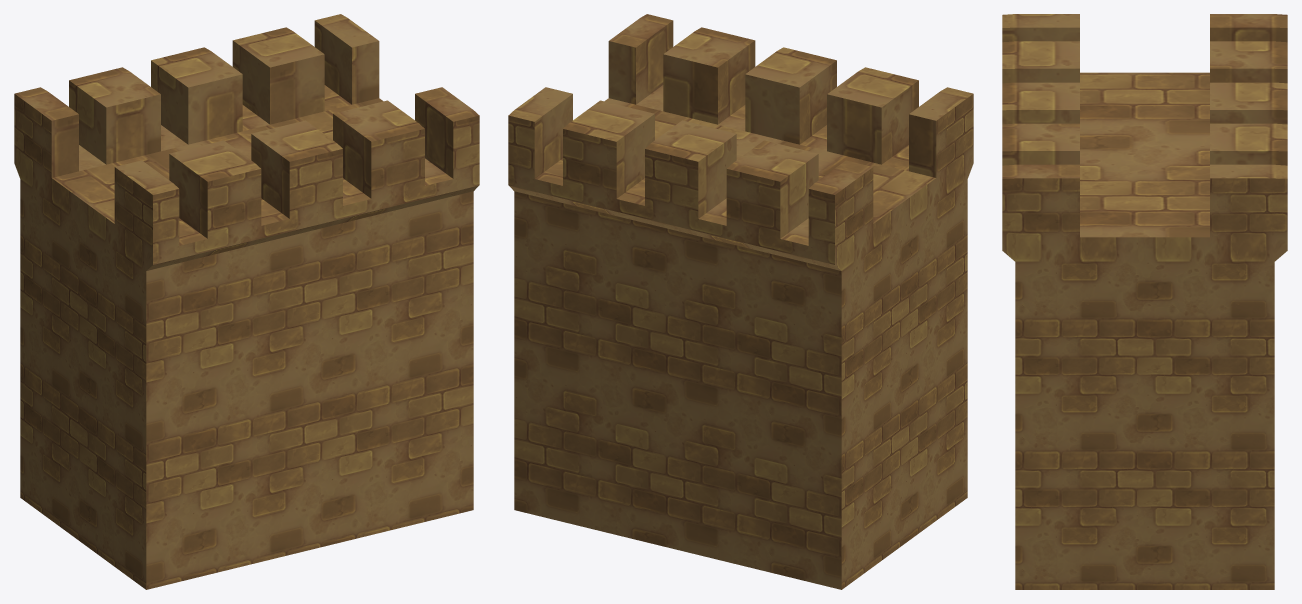
File: castle_wall.fbx
3 views of the same model, side by side, from view 1: azimuth 30°, elevation 25°; view 2: azimuth 150°, elevation 25°; view 3: azimuth 270°, elevation 25° (orthographic). The views are drawn at different scales.
Visible parts, largest first — view 1: castle_wall; view 2: castle_wall; view 3: castle_wall.
Boxes of the visible parts, left/top/right/bottom form: castle_wall: left=14, top=14, right=479, bottom=589; castle_wall: left=508, top=14, right=973, bottom=589; castle_wall: left=1002, top=14, right=1287, bottom=589.
Size of the model in its own units: 600 by 700 by 440.
